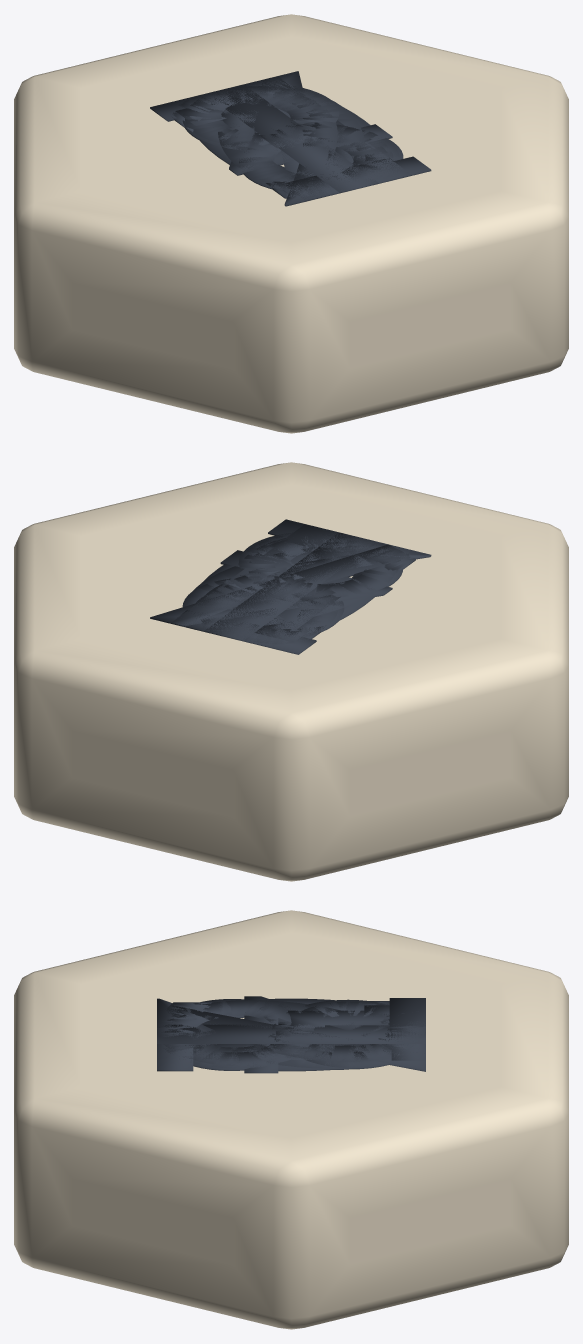
The model's file is clue_stone.glb.
The picture shows the model from 3 angles, top to bottom: view 1: azimuth 30°, elevation 25°; view 2: azimuth 150°, elevation 25°; view 3: azimuth 270°, elevation 25°; orthographic projection.
Parts seen in each view (by area): view 1: Clue_Body, Clue_Num_1, Clue_Num_8, Clue_Num_2, Clue_Num_6, Clue_Num_3, Clue_Num_9, Clue_Num_4, Clue_Num_5, Clue_Num_7; view 2: Clue_Body, Clue_Num_1, Clue_Num_7, Clue_Num_4, Clue_Num_8, Clue_Num_2, Clue_Num_5, Clue_Num_6, Clue_Num_3, Clue_Num_9; view 3: Clue_Body, Clue_Num_1, Clue_Num_2, Clue_Num_5, Clue_Num_7, Clue_Num_6, Clue_Num_8, Clue_Num_9, Clue_Num_4, Clue_Num_3.
Boxes of the visible parts, box(x1,y1,x2,y2) form: Clue_Body: box(14, 14, 568, 433); Clue_Num_1: box(175, 84, 411, 201); Clue_Num_8: box(185, 84, 403, 192); Clue_Num_2: box(172, 87, 431, 206); Clue_Num_6: box(218, 85, 399, 189); Clue_Num_3: box(178, 86, 388, 196); Clue_Num_9: box(182, 85, 365, 188); Clue_Num_4: box(229, 77, 410, 180); Clue_Num_5: box(187, 76, 393, 198); Clue_Num_7: box(150, 71, 320, 189); Clue_Body: box(14, 462, 568, 881); Clue_Num_1: box(205, 524, 411, 642); Clue_Num_7: box(150, 544, 409, 654); Clue_Num_4: box(171, 543, 392, 626); Clue_Num_8: box(182, 532, 402, 639); Clue_Num_2: box(198, 519, 431, 643); Clue_Num_5: box(175, 534, 415, 648); Clue_Num_6: box(202, 532, 396, 630); Clue_Num_3: box(195, 535, 410, 644); Clue_Num_9: box(187, 543, 373, 639); Clue_Body: box(14, 910, 568, 1329); Clue_Num_1: box(157, 1005, 425, 1050); Clue_Num_2: box(157, 998, 425, 1071); Clue_Num_5: box(163, 1002, 425, 1065); Clue_Num_7: box(168, 998, 425, 1071); Clue_Num_6: box(163, 1000, 391, 1068); Clue_Num_8: box(159, 999, 423, 1070); Clue_Num_9: box(165, 999, 404, 1069); Clue_Num_4: box(185, 996, 388, 1073); Clue_Num_3: box(157, 1005, 424, 1062).
Size of the model in its own units: 0.6096 by 0.1815 by 0.5369.
